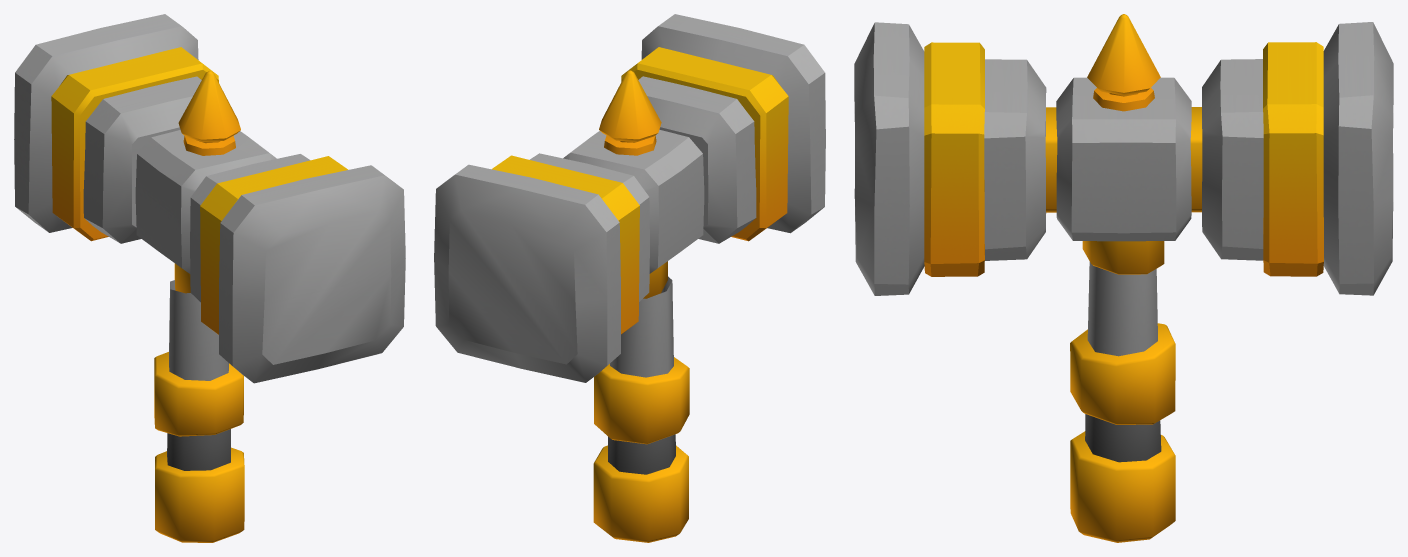
The model's file is SM_Hammer.fbx.
3 views of the same model, side by side, from view 1: azimuth 30°, elevation 25°; view 2: azimuth 150°, elevation 25°; view 3: azimuth 270°, elevation 25° (orthographic). The views are drawn at different scales.
Visible parts, largest first — view 1: Hammer_1; view 2: Hammer_1; view 3: Hammer_1.
Part boxes in pixels (bbox=[...]): Hammer_1: bbox=[14, 14, 405, 542]; Hammer_1: bbox=[434, 14, 825, 542]; Hammer_1: bbox=[854, 14, 1393, 542].
Bounding box in the file's own units: 104 × 260 × 247.
